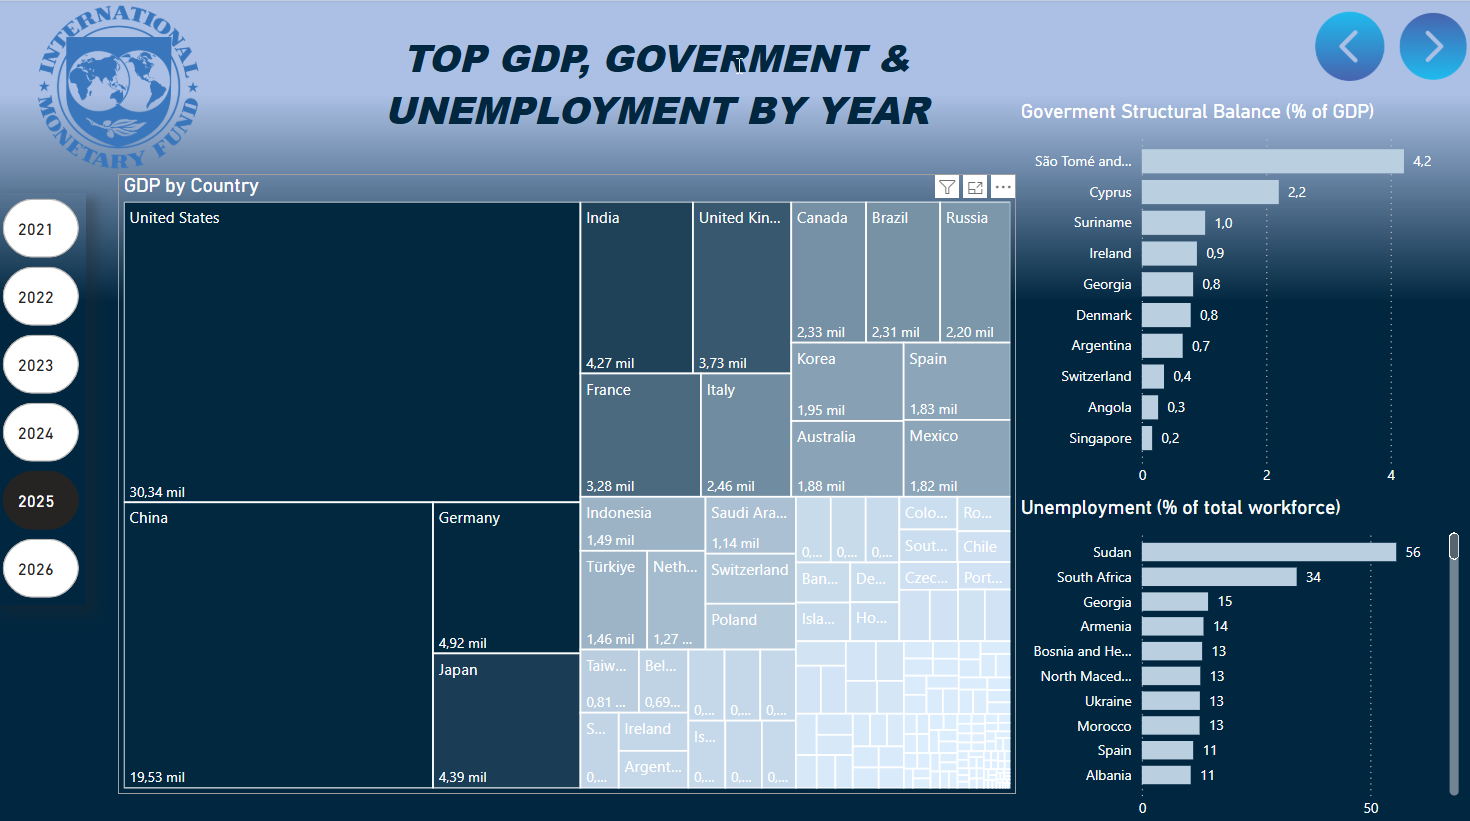

This screenshot's page, from the dashboard's own definition file:
{"tool":"powerbi","page":{"name":"Página 2","canvas":[1280,720],"ordinal":2},"visuals":[{"type":"advancedSlicerVisual","fields":{"Values":["Calendar.Date.Variación.Jerarquía de fechas.Año"]},"box":[0,168.4,76.7,356.6],"z":0},{"type":"barChart","title":"Goverment Structural Balance (% of GDP)","fields":{"Category":["Goverment.Country"],"Y":["Sum(Goverment.Results)"]},"box":[883.1,87.4,390,343.8],"z":1000},{"type":"treemap","title":"GDP by Country","fields":{"Group":["GDP USD.Country"],"Values":["Sum(GDP USD.Valor)"]},"box":[104.5,152.2,779.4,537.8],"z":2000},{"type":"image","box":[0,0,209.2,152.3],"z":3000},{"type":"barChart","title":"Unemployment (% of total workforce)","fields":{"Category":["Unemployment.Country"],"Y":["Sum(Unemployment.Results)"]},"box":[883.1,431.3,390,288.8],"z":4000},{"type":"textbox","box":[259,23.2,624.9,128.9],"z":5000},{"type":"image","box":[1211.9,6.1,67.7,70.3],"z":6000},{"type":"image","box":[1135.5,6.1,76.3,70.3],"z":7000}]}

Visuals, with their boxes in screenshot pixels (x1, y1, x2, y2), scaled from the page's 1280x720 canvas onto the 1470x821 screenshot:
advancedSlicerVisual - Calendar.Date.Variación.Jerarquía de fechas.Año: box=[0, 192, 88, 599]
"Goverment Structural Balance (% of GDP)" barChart: box=[1014, 100, 1462, 492]
"GDP by Country" treemap: box=[120, 174, 1015, 787]
image: box=[0, 0, 240, 174]
"Unemployment (% of total workforce)" barChart: box=[1014, 492, 1462, 820]
textbox: box=[297, 26, 1015, 173]
image: box=[1392, 7, 1469, 87]
image: box=[1304, 7, 1392, 87]
